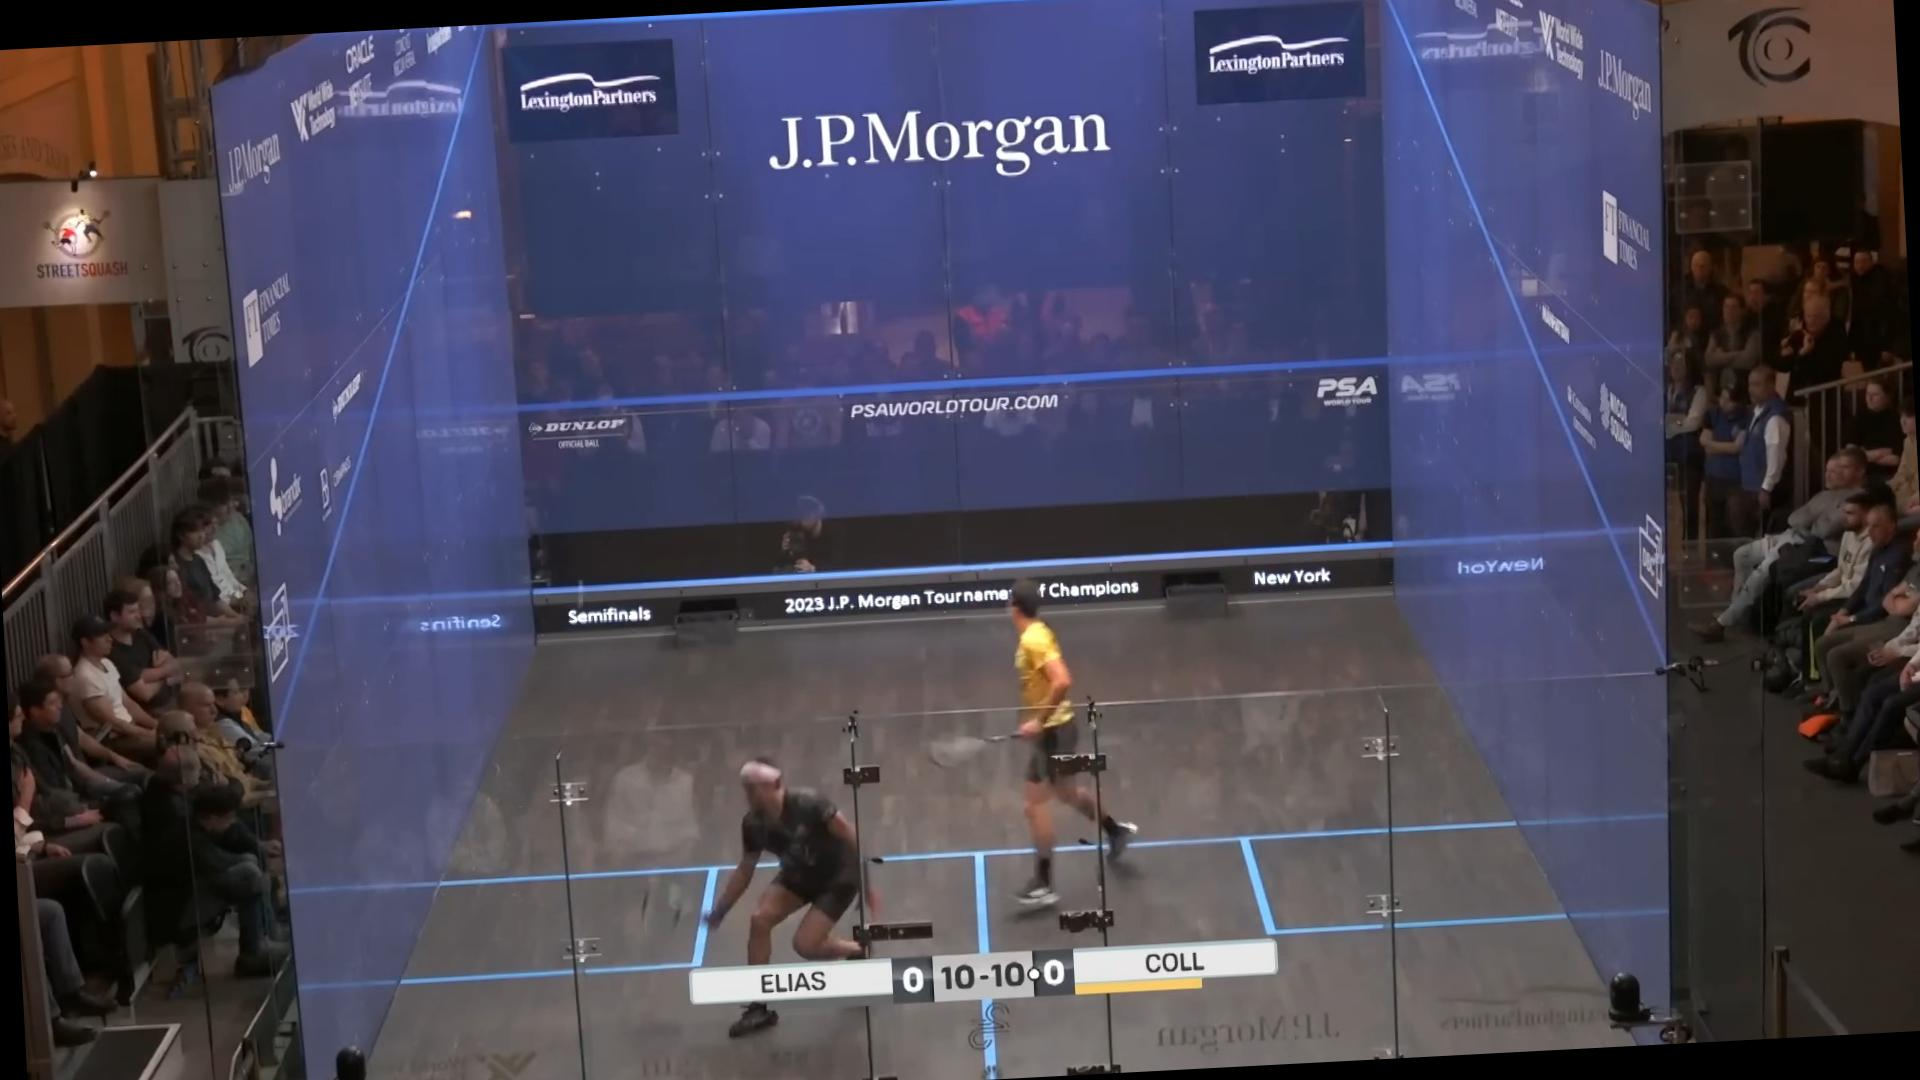Racket: (916, 716, 1033, 777)
